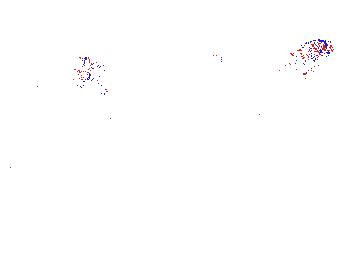X-ray fish: (276, 37, 337, 79)
redtail glassfish: (73, 51, 108, 88), (209, 35, 229, 67)
